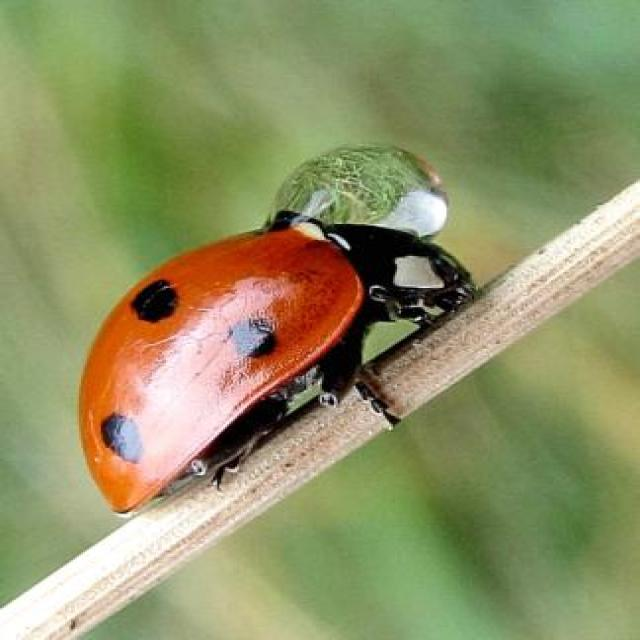body: (79, 222, 481, 515)
insect: (77, 220, 481, 518)
legs: (210, 346, 458, 491)
wings: (78, 219, 362, 519)
